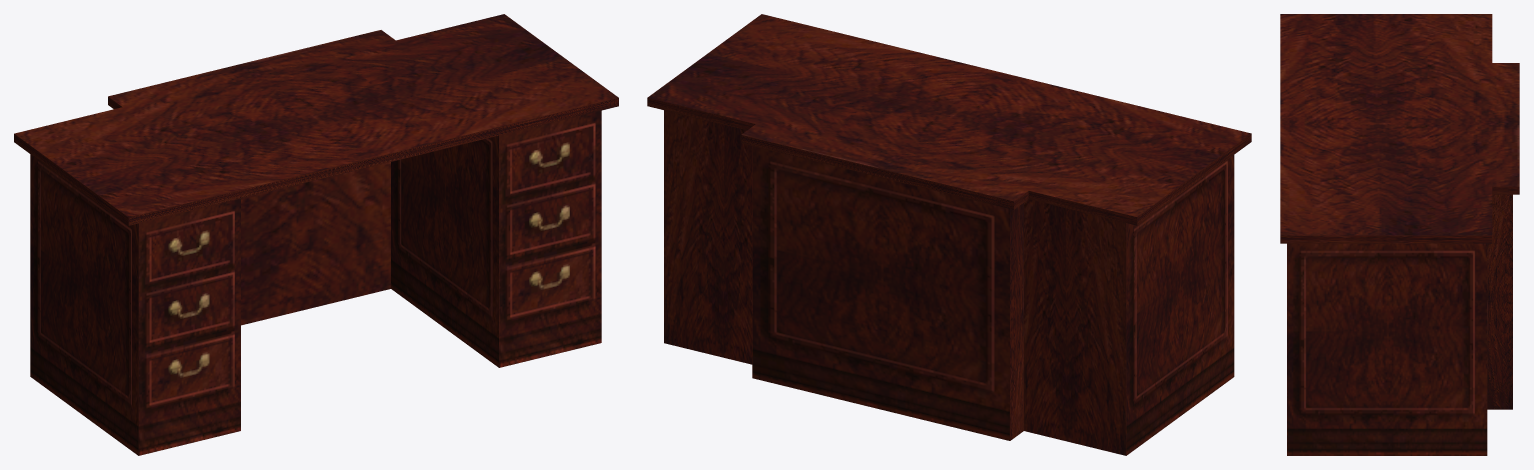
File: desk_med_hi_brnwd.fbx
The picture shows the model from 3 angles, left to right: view 1: azimuth 30°, elevation 25°; view 2: azimuth 150°, elevation 25°; view 3: azimuth 270°, elevation 25°; orthographic projection. The views are drawn at different scales.
Parts seen in each view (by area): view 1: mesh_0; view 2: mesh_0; view 3: mesh_0.
Boxes of the visible parts, x1,y1,x2,y2 form: mesh_0: (14, 14, 618, 455); mesh_0: (647, 14, 1251, 455); mesh_0: (1280, 14, 1519, 455).
Bounding box in the file's own units: 168 × 80 × 76.6.
Materials: 1 (1 with a texture image).
